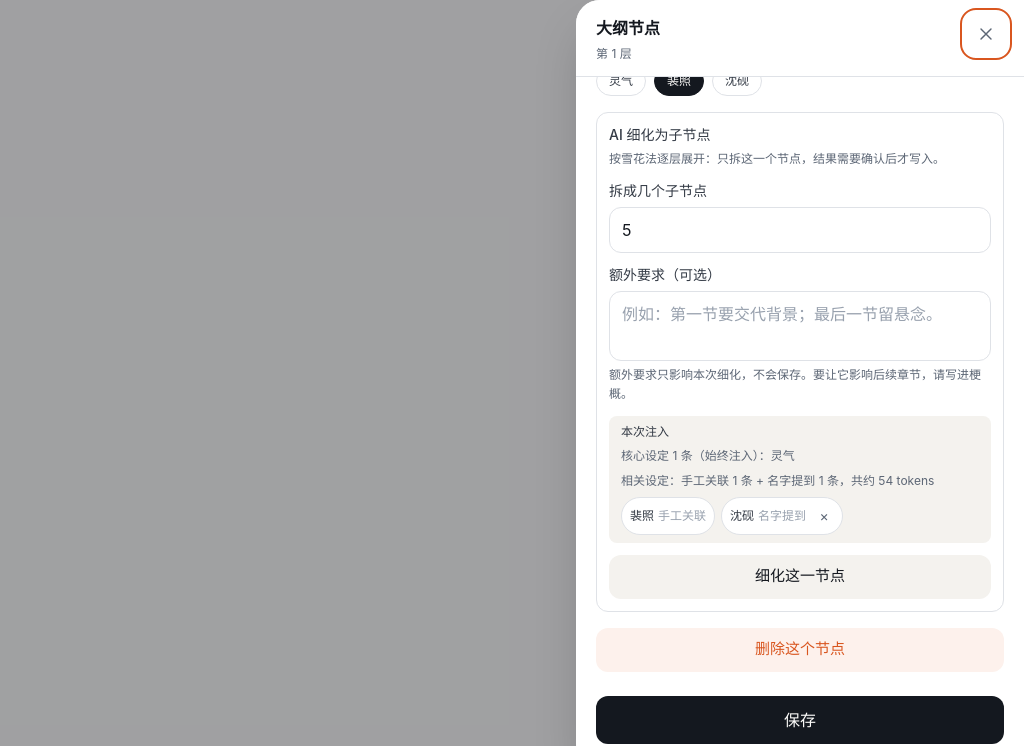
Test: S4 · 注入清单与临时移除（US-1a，反向 R26） › 展示核心/显式/提到与 token；移除提到的条目后请求不再包含它
This screenshot has width=1024, height=746.
(page scrolled)
Expected: the text "本次注入" is shown, [621, 424, 669, 438]
Expected: the text "核心设定 1 条（始终注入）：灵气" is shown, [621, 448, 795, 462]
Click the button "细化这一节点". click: (800, 576)
box: [609, 554, 991, 598]
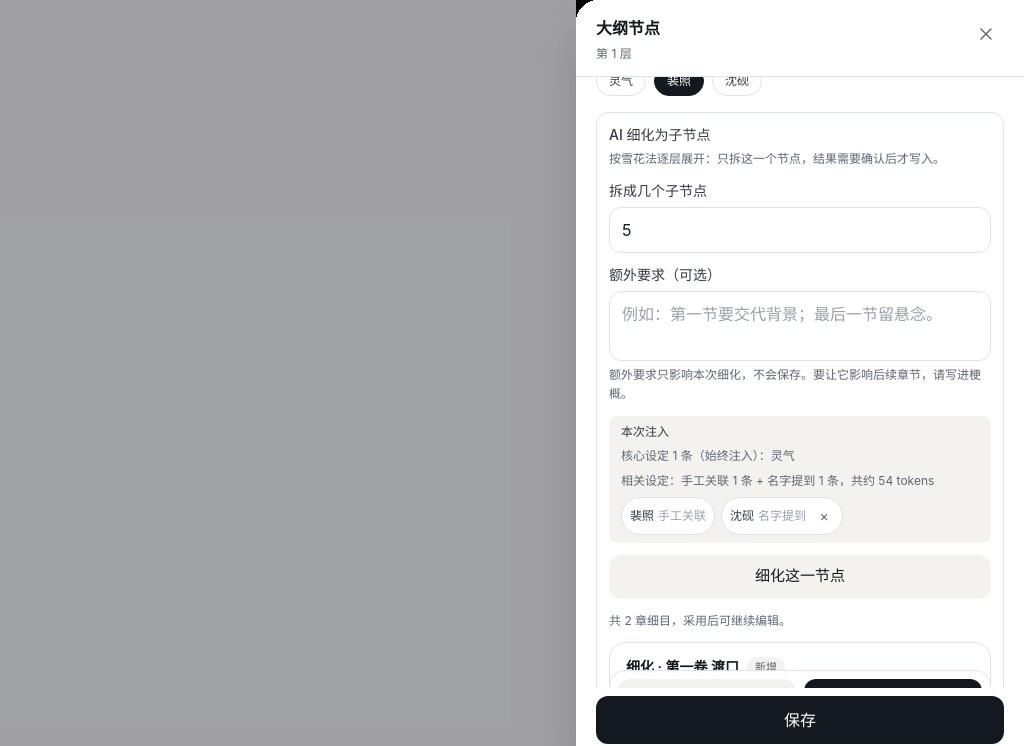
Expected: the button "采用这份细目" is shown, [804, 679, 982, 727]
